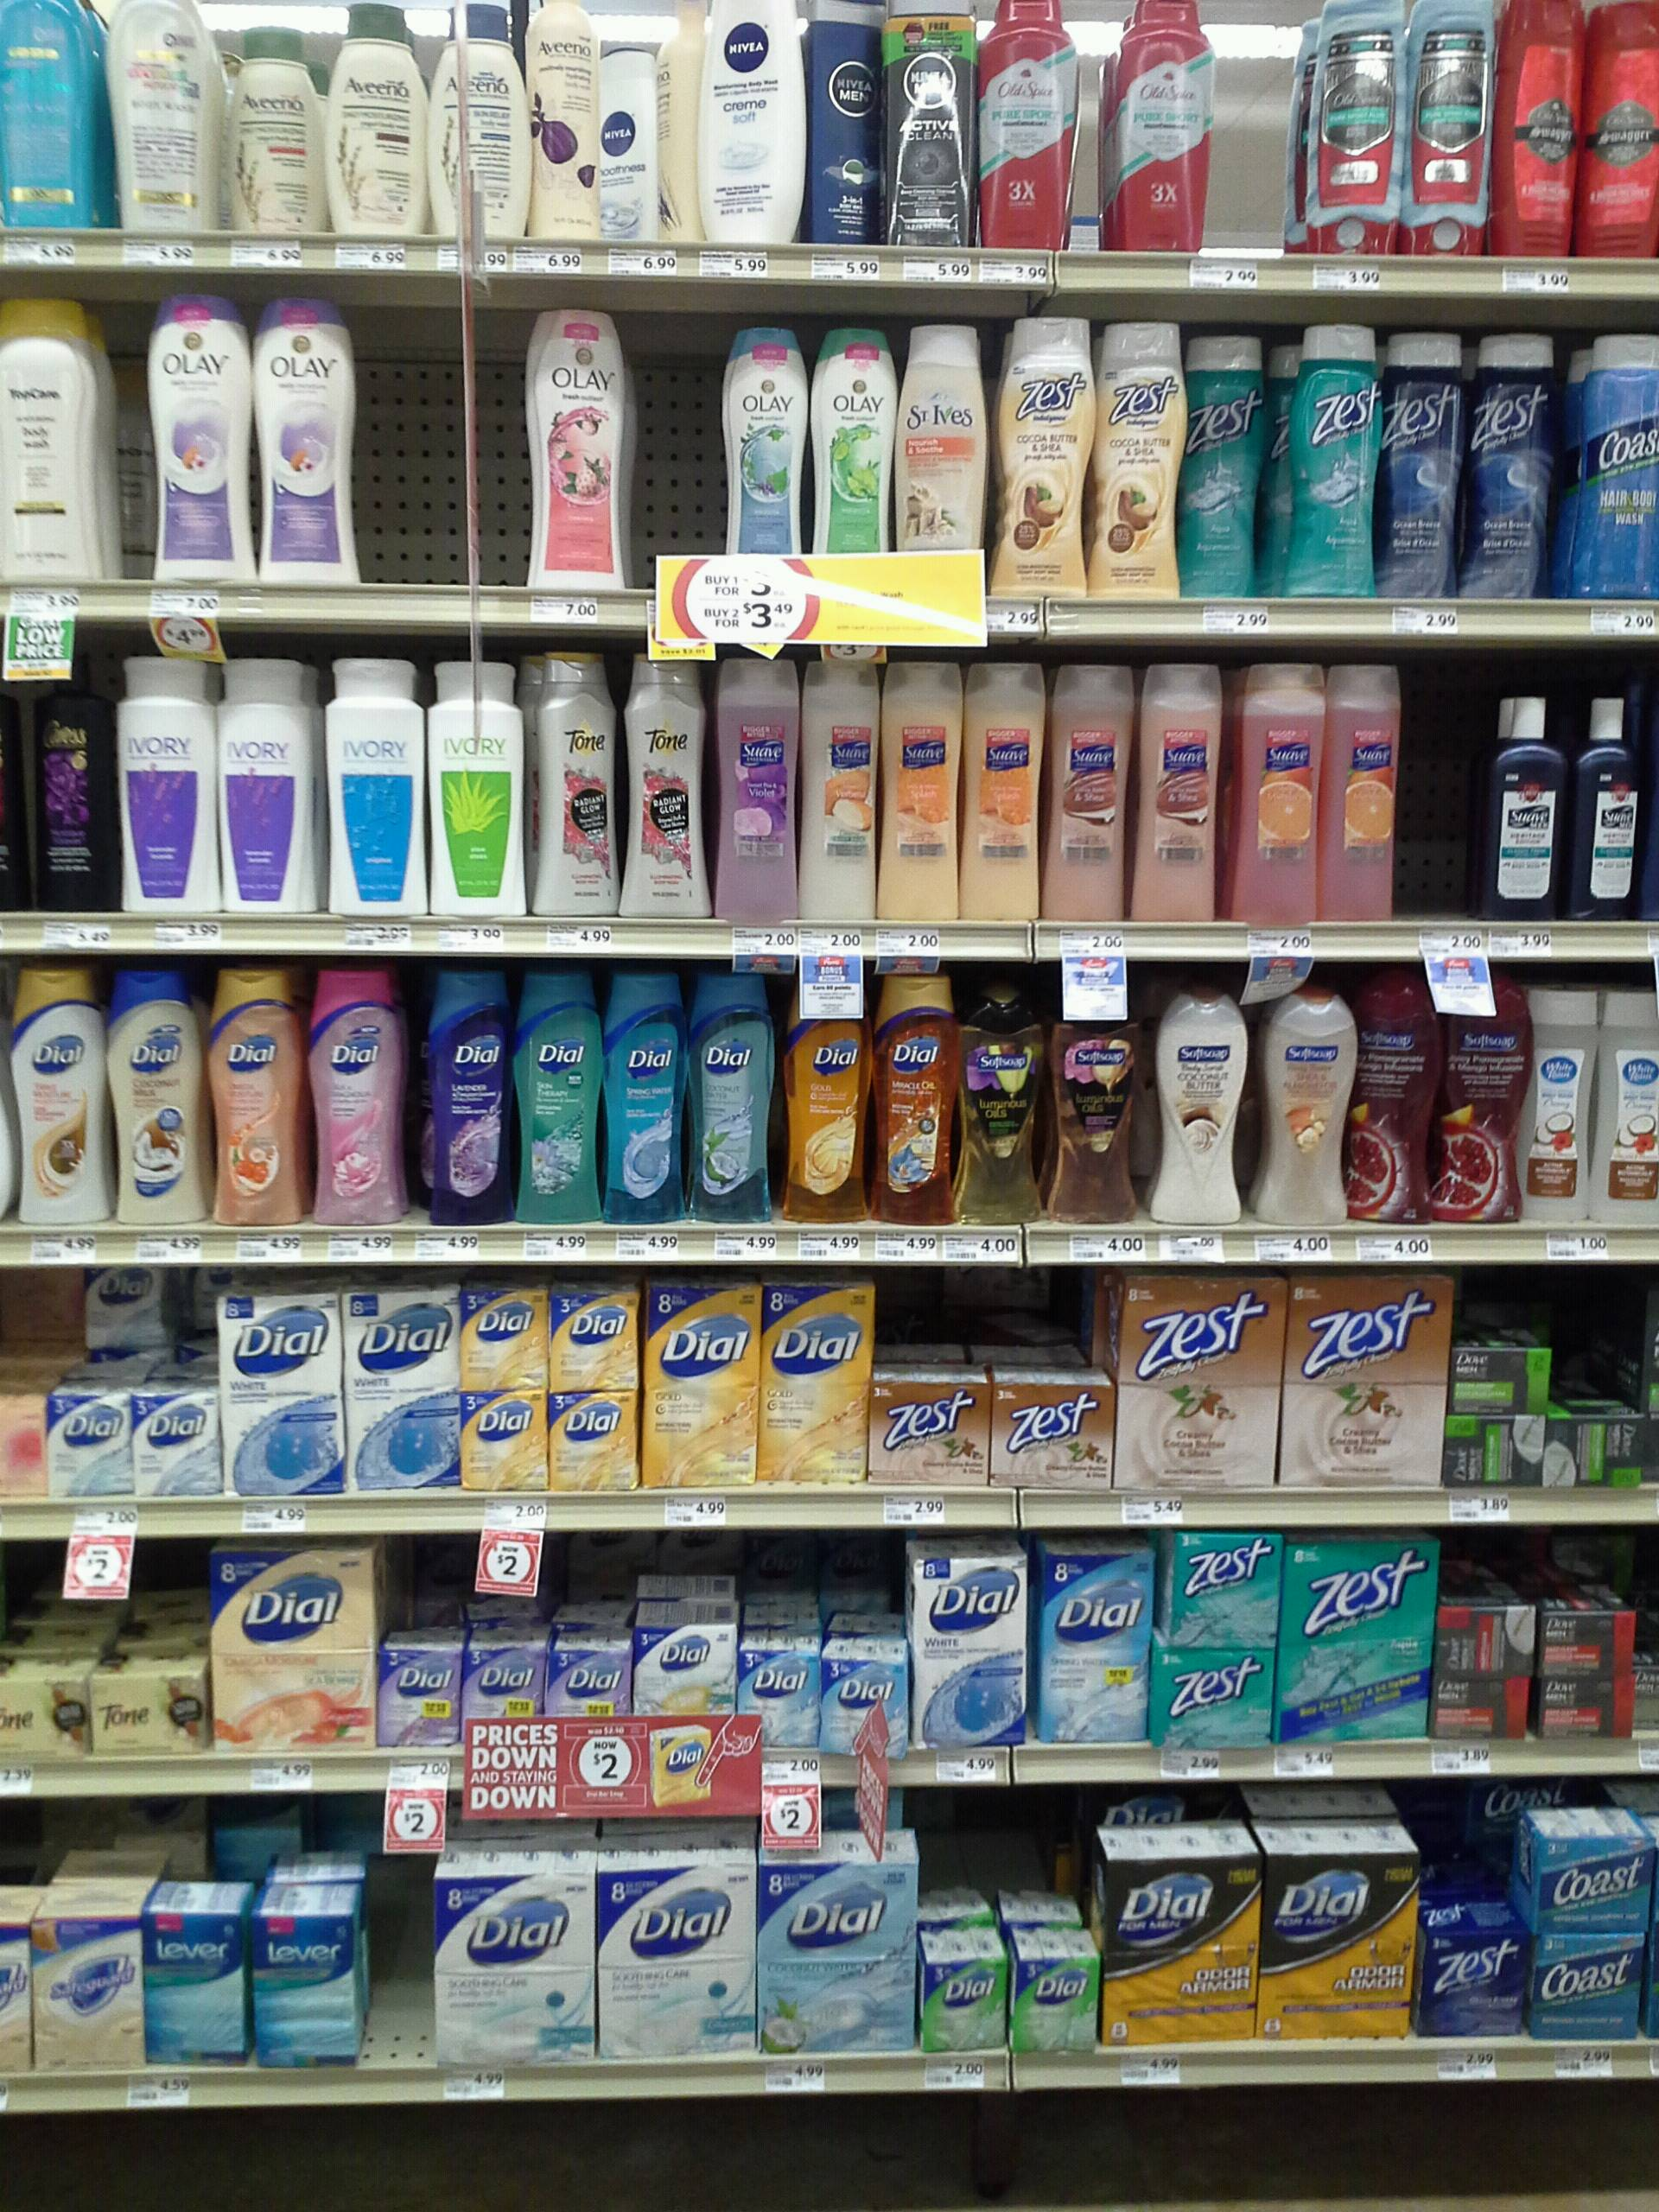Misplacement: (47, 1264, 220, 1503)
Out-of-stock: (1398, 646, 1471, 923)
